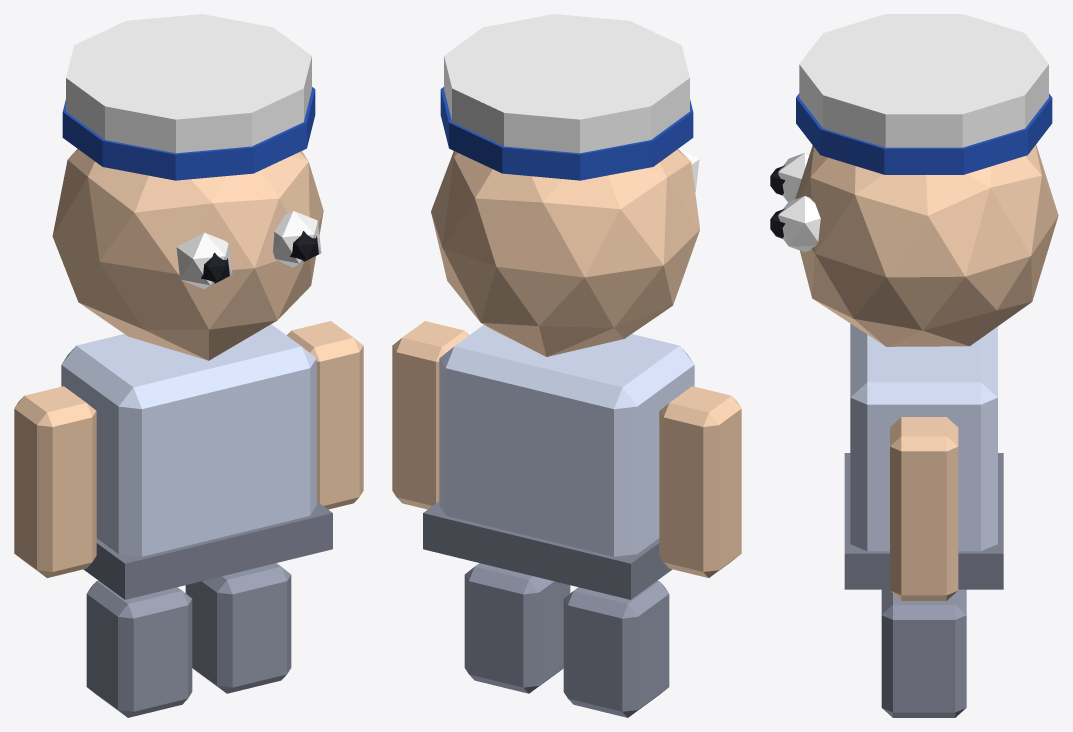
File: MarineRifleman.fbx
3 views of the same model, side by side, from view 1: azimuth 30°, elevation 25°; view 2: azimuth 150°, elevation 25°; view 3: azimuth 270°, elevation 25° (orthographic).
Parts seen in each view (by area): view 1: MarineRifleman; view 2: MarineRifleman; view 3: MarineRifleman.
Part boxes in pixels (left/top/right/bottom): MarineRifleman: left=14, top=14, right=363, bottom=717; MarineRifleman: left=392, top=14, right=741, bottom=717; MarineRifleman: left=770, top=14, right=1058, bottom=717.
Size of the model in its own units: 3.3 by 6 by 2.54.
1 material, 1 textured.
